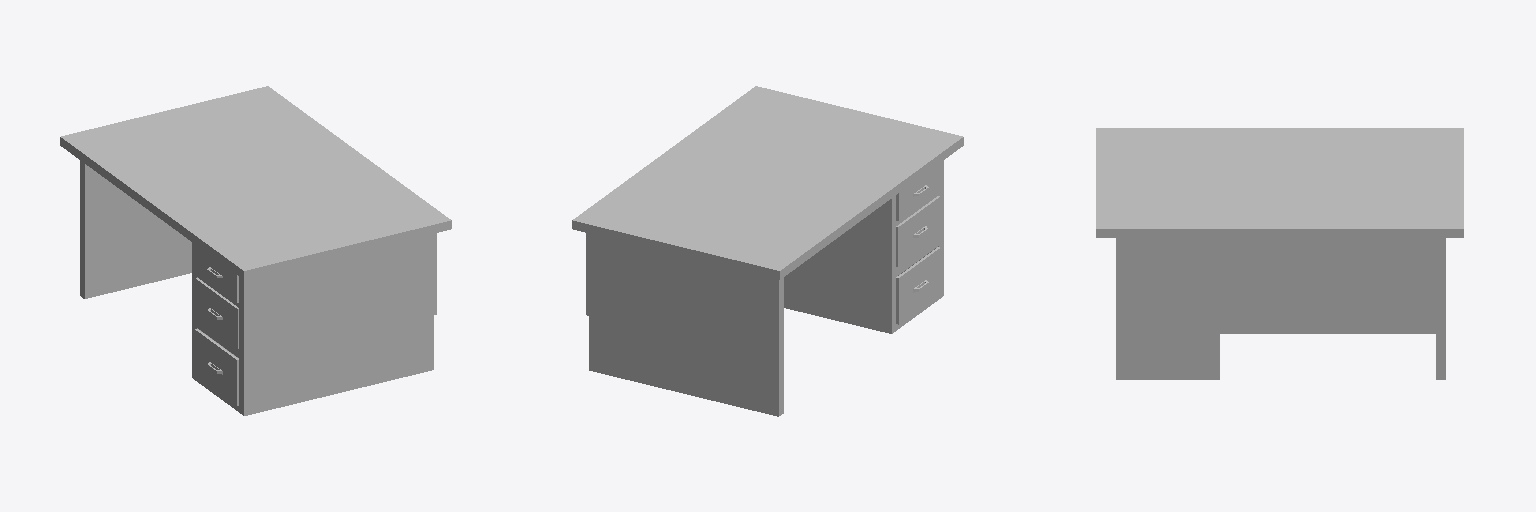
The model's file is Computer_desk.obj.
The picture shows the model from 3 angles: view 1: azimuth 30°, elevation 25°; view 2: azimuth 150°, elevation 25°; view 3: azimuth 270°, elevation 25°; orthographic projection.
Parts seen in each view (by area): view 1: Desk, Draw_1, Draw_2, Draw_3; view 2: Desk, Draw_1, Draw_2, Draw_3; view 3: Desk.
Part boxes in pixels (x1,y1,x2,y2): Desk: (60, 86, 451, 415); Draw_1: (195, 329, 238, 405); Draw_2: (195, 278, 238, 348); Draw_3: (195, 245, 238, 302); Desk: (572, 86, 963, 416); Draw_1: (896, 247, 940, 324); Draw_2: (896, 196, 939, 266); Draw_3: (896, 163, 940, 220); Desk: (1096, 128, 1463, 379).
Size of the model in its own units: 3.56 by 2.54 by 5.45.